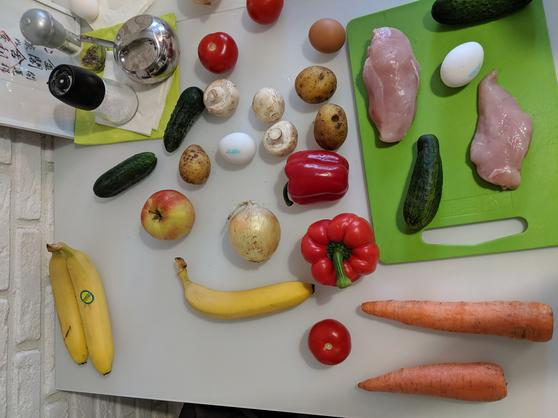apple: (143, 183, 197, 247)
banana: (172, 258, 315, 320), (65, 238, 120, 383), (42, 238, 89, 372)
carrot: (364, 294, 558, 344), (356, 358, 511, 404)
champignon: (199, 80, 243, 119), (250, 81, 290, 120), (260, 119, 299, 155)
chicken_fillet: (470, 68, 534, 190), (357, 25, 421, 144)
cucumber: (397, 133, 447, 236), (95, 150, 160, 200), (159, 87, 206, 155)
egg: (440, 37, 486, 94), (306, 11, 349, 59), (217, 129, 257, 166)
onion: (222, 194, 282, 270)
pepper: (300, 211, 381, 290), (275, 151, 352, 211)
potato: (314, 97, 352, 151), (293, 63, 340, 101), (179, 140, 209, 184)
tomato: (304, 318, 350, 369), (196, 26, 239, 75)
